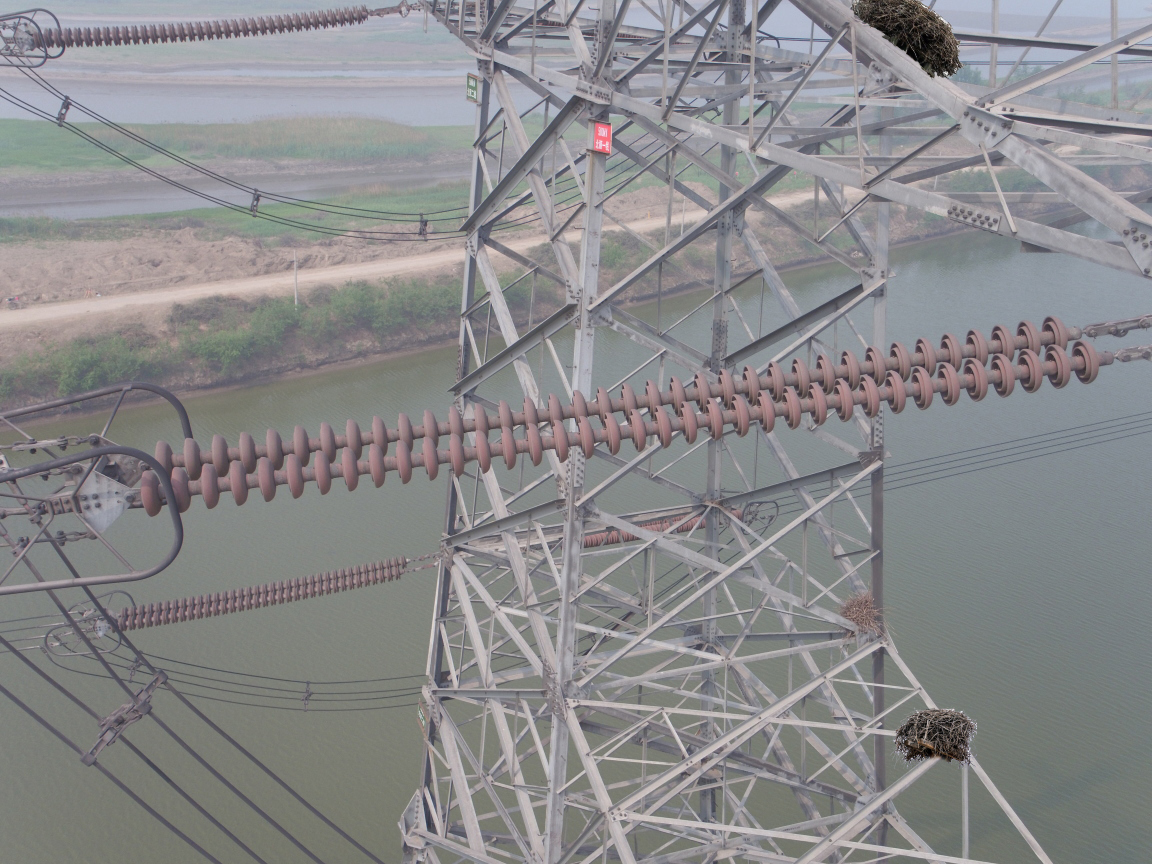nest: (849, 2, 972, 74), (891, 704, 981, 765), (833, 592, 892, 648)
